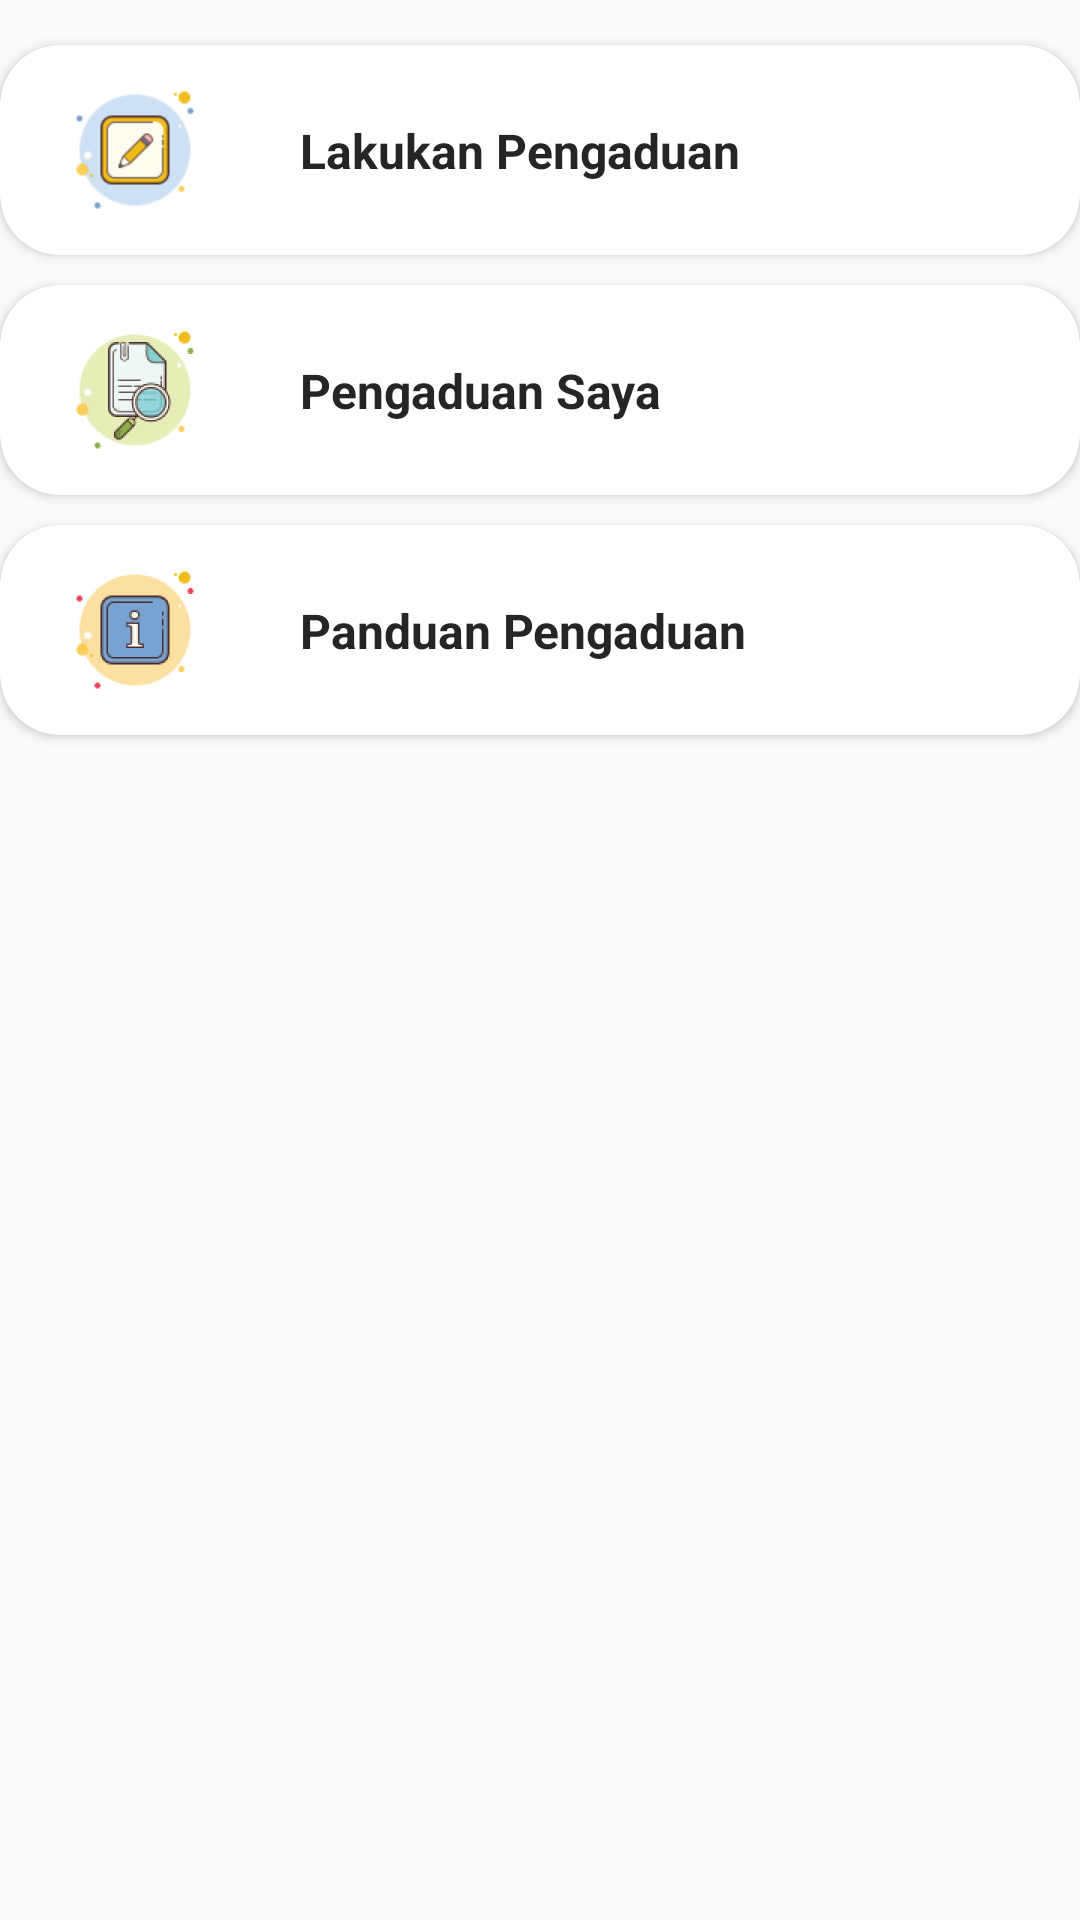

Icons on this 1080 × 1920 Android screen, each with its box as [x1, y1, x2, y2]:
lapor: [33, 45, 194, 209]
laporsaya: [76, 331, 194, 449]
